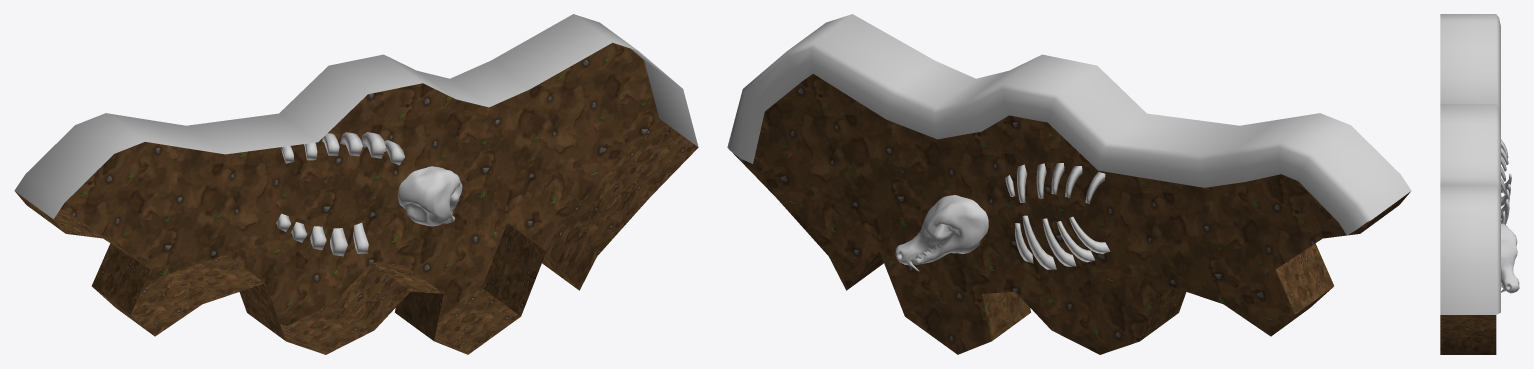
File: TerrainTest_01.fbx
3 renders of one model, left to right at view 1: azimuth 30°, elevation 25°; view 2: azimuth 150°, elevation 25°; view 3: azimuth 270°, elevation 25°, orthographic. The views are drawn at different scales.
Visible parts, largest first — view 1: Terrain_Test; view 2: Terrain_Test; view 3: Terrain_Test.
Boxes of the visible parts, x1,y1,x2,y2 form: Terrain_Test: [14, 14, 698, 354]; Terrain_Test: [727, 14, 1411, 354]; Terrain_Test: [1440, 14, 1519, 354].
Bounding box in the file's own units: 38.57 × 16.68 × 5.77.
